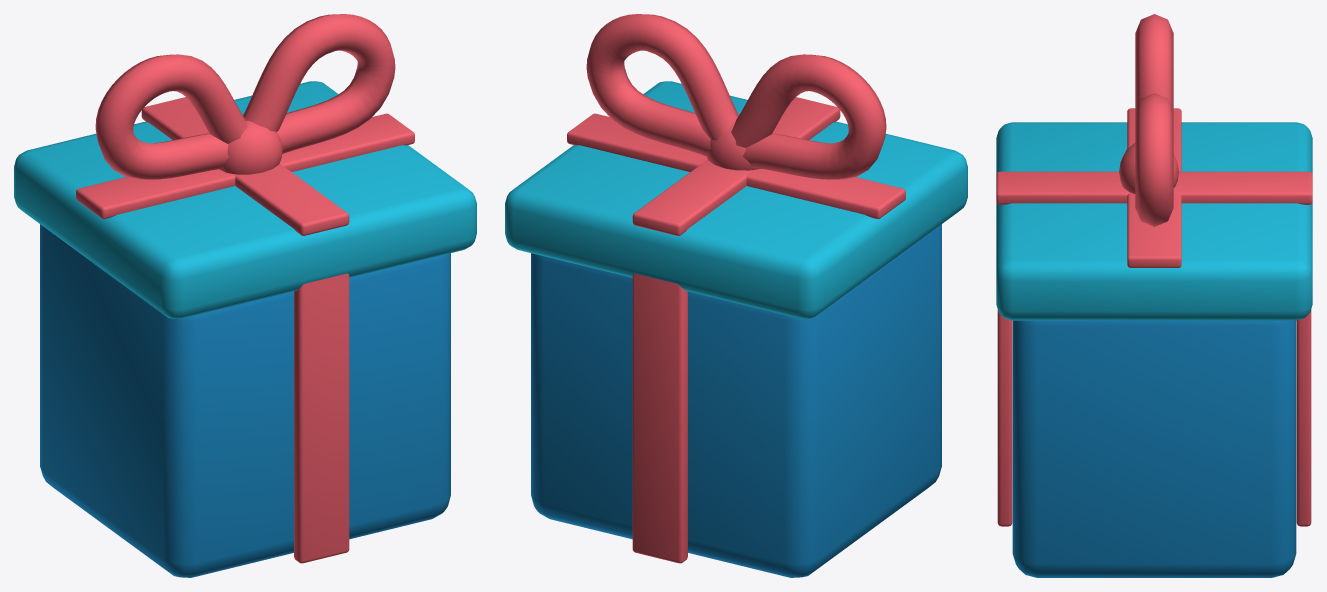
File: gift_box.glb
3 views of the same model, side by side, from view 1: azimuth 30°, elevation 25°; view 2: azimuth 150°, elevation 25°; view 3: azimuth 270°, elevation 25° (orthographic). The views are drawn at different scales.
Visible parts, largest first — view 1: gift_box; view 2: gift_box; view 3: gift_box.
Part boxes in pixels (x1=…): gift_box: x1=14, y1=14, x2=476, y2=577; gift_box: x1=505, y1=14, x2=967, y2=577; gift_box: x1=996, y1=14, x2=1312, y2=577.
Size of the model in its own units: 0.65 by 0.925 by 0.58.
